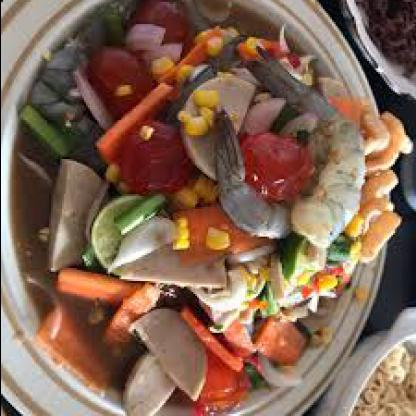Yum: (2, 2, 415, 413)
